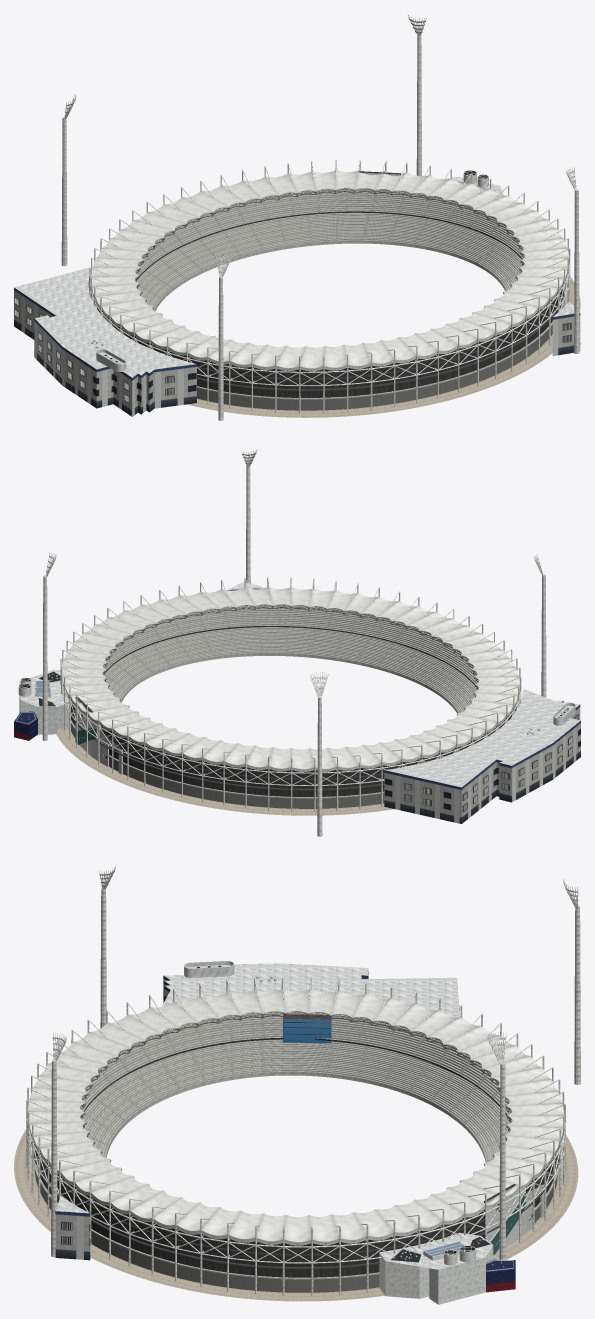
The model's file is gabba.glb.
The picture shows the model from 3 angles, top to bottom: view 1: azimuth 30°, elevation 25°; view 2: azimuth 150°, elevation 25°; view 3: azimuth 270°, elevation 25°; orthographic projection. The views are drawn at different scales.
Visible parts, largest first — view 1: gabba, aisle_steps, lattice; view 2: gabba, aisle_steps, lattice; view 3: gabba, aisle_steps, lattice.
Boxes of the visible parts, x1,y1,x2,y2 form: gabba: (14, 14, 580, 420); aisle_steps: (139, 189, 523, 308); lattice: (92, 188, 569, 370); gabba: (14, 449, 580, 836); aisle_steps: (104, 605, 475, 705); lattice: (63, 605, 502, 770); gabba: (14, 865, 580, 1304); aisle_steps: (84, 1012, 507, 1161); lattice: (29, 1011, 561, 1244).
Size of the model in its own units: 270 by 101 by 220.
30 materials, 29 textured.
